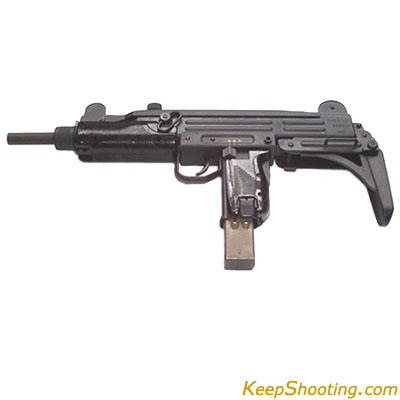rifle: (9, 76, 400, 279)
